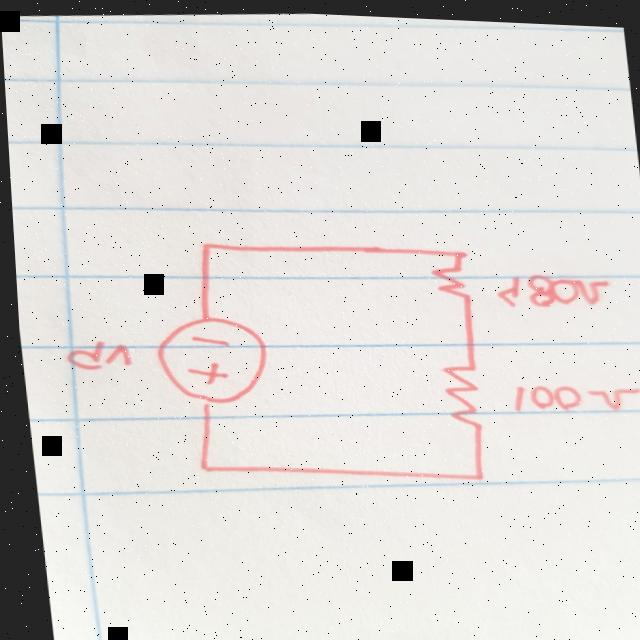junction: (194, 239, 211, 253), (447, 246, 465, 258), (464, 468, 479, 480), (191, 461, 207, 472)
resistor: (432, 355, 488, 430), (423, 262, 470, 298)
source: (147, 311, 270, 408)
text: (505, 374, 637, 415), (489, 266, 609, 311), (56, 337, 134, 376)
